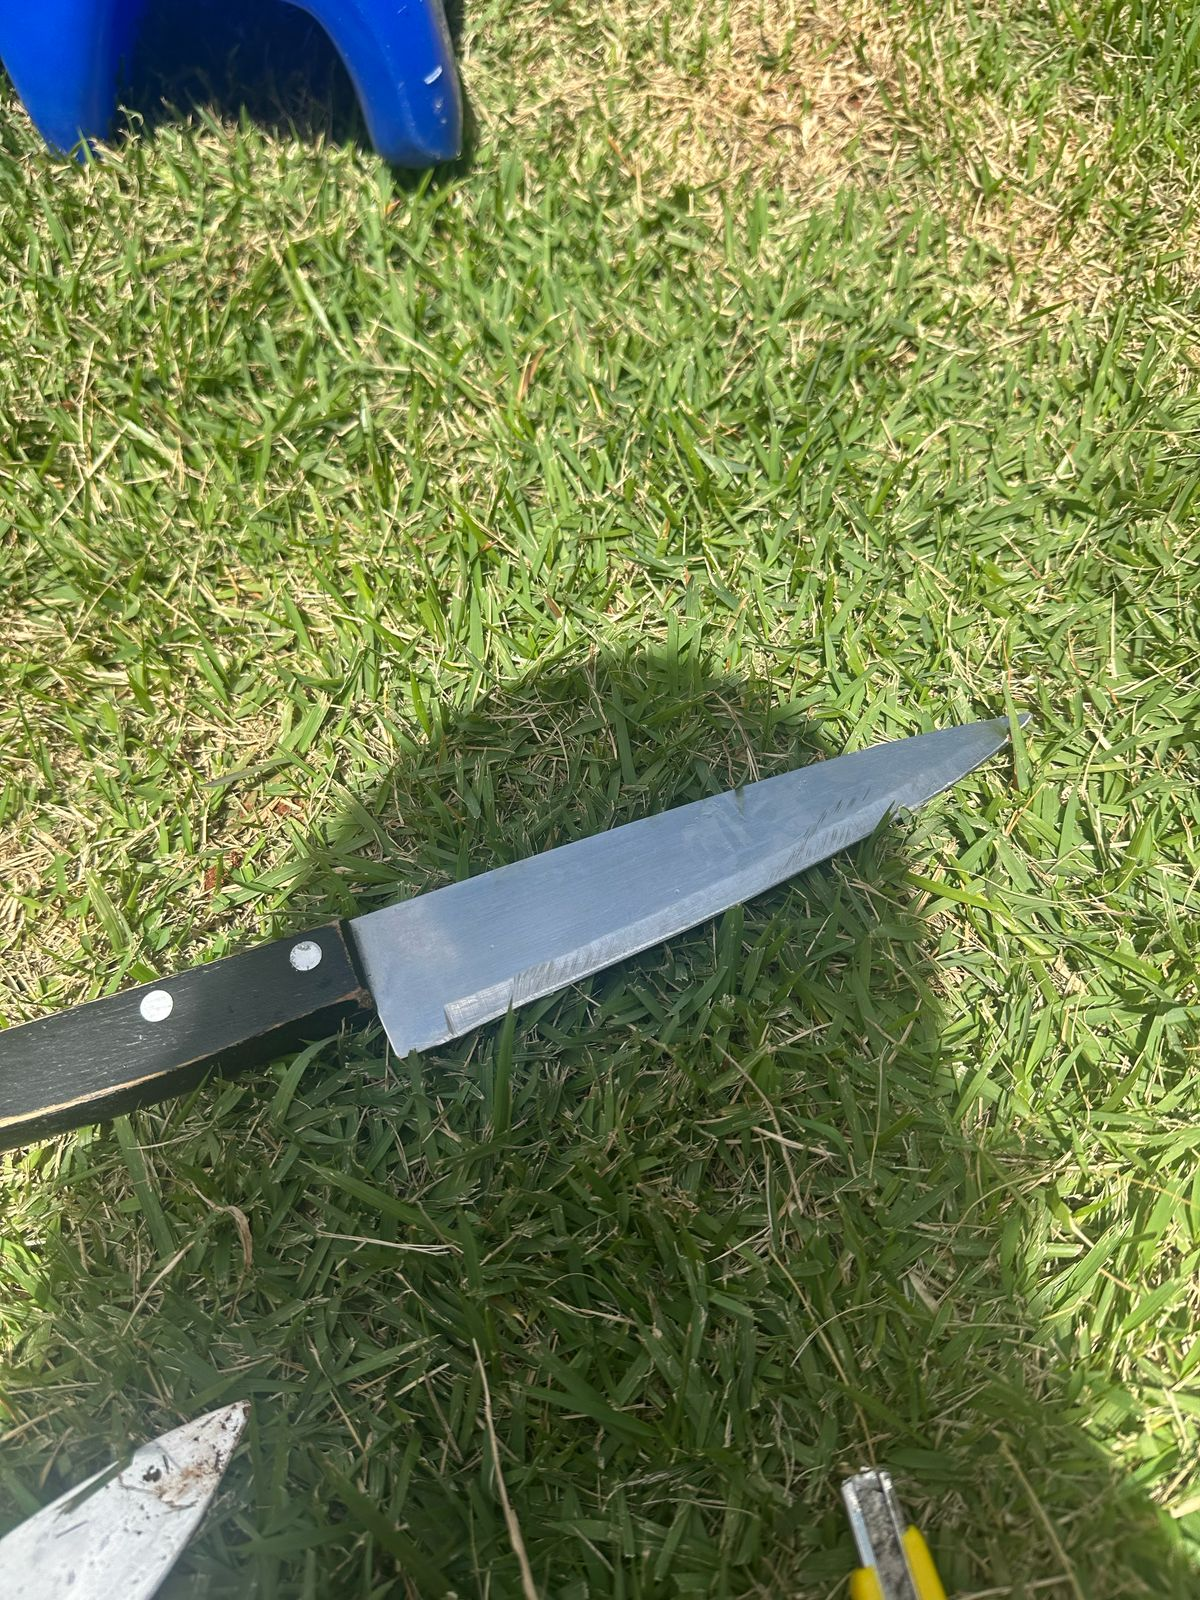estilete: (789, 1449, 968, 1592)
faca: (39, 669, 1059, 1138), (43, 1359, 280, 1581)
